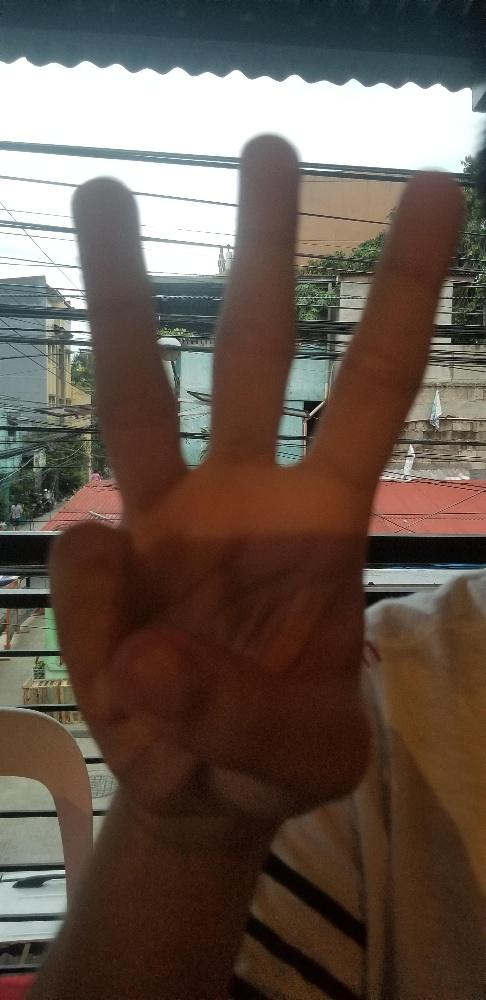w: (46, 129, 466, 820)
